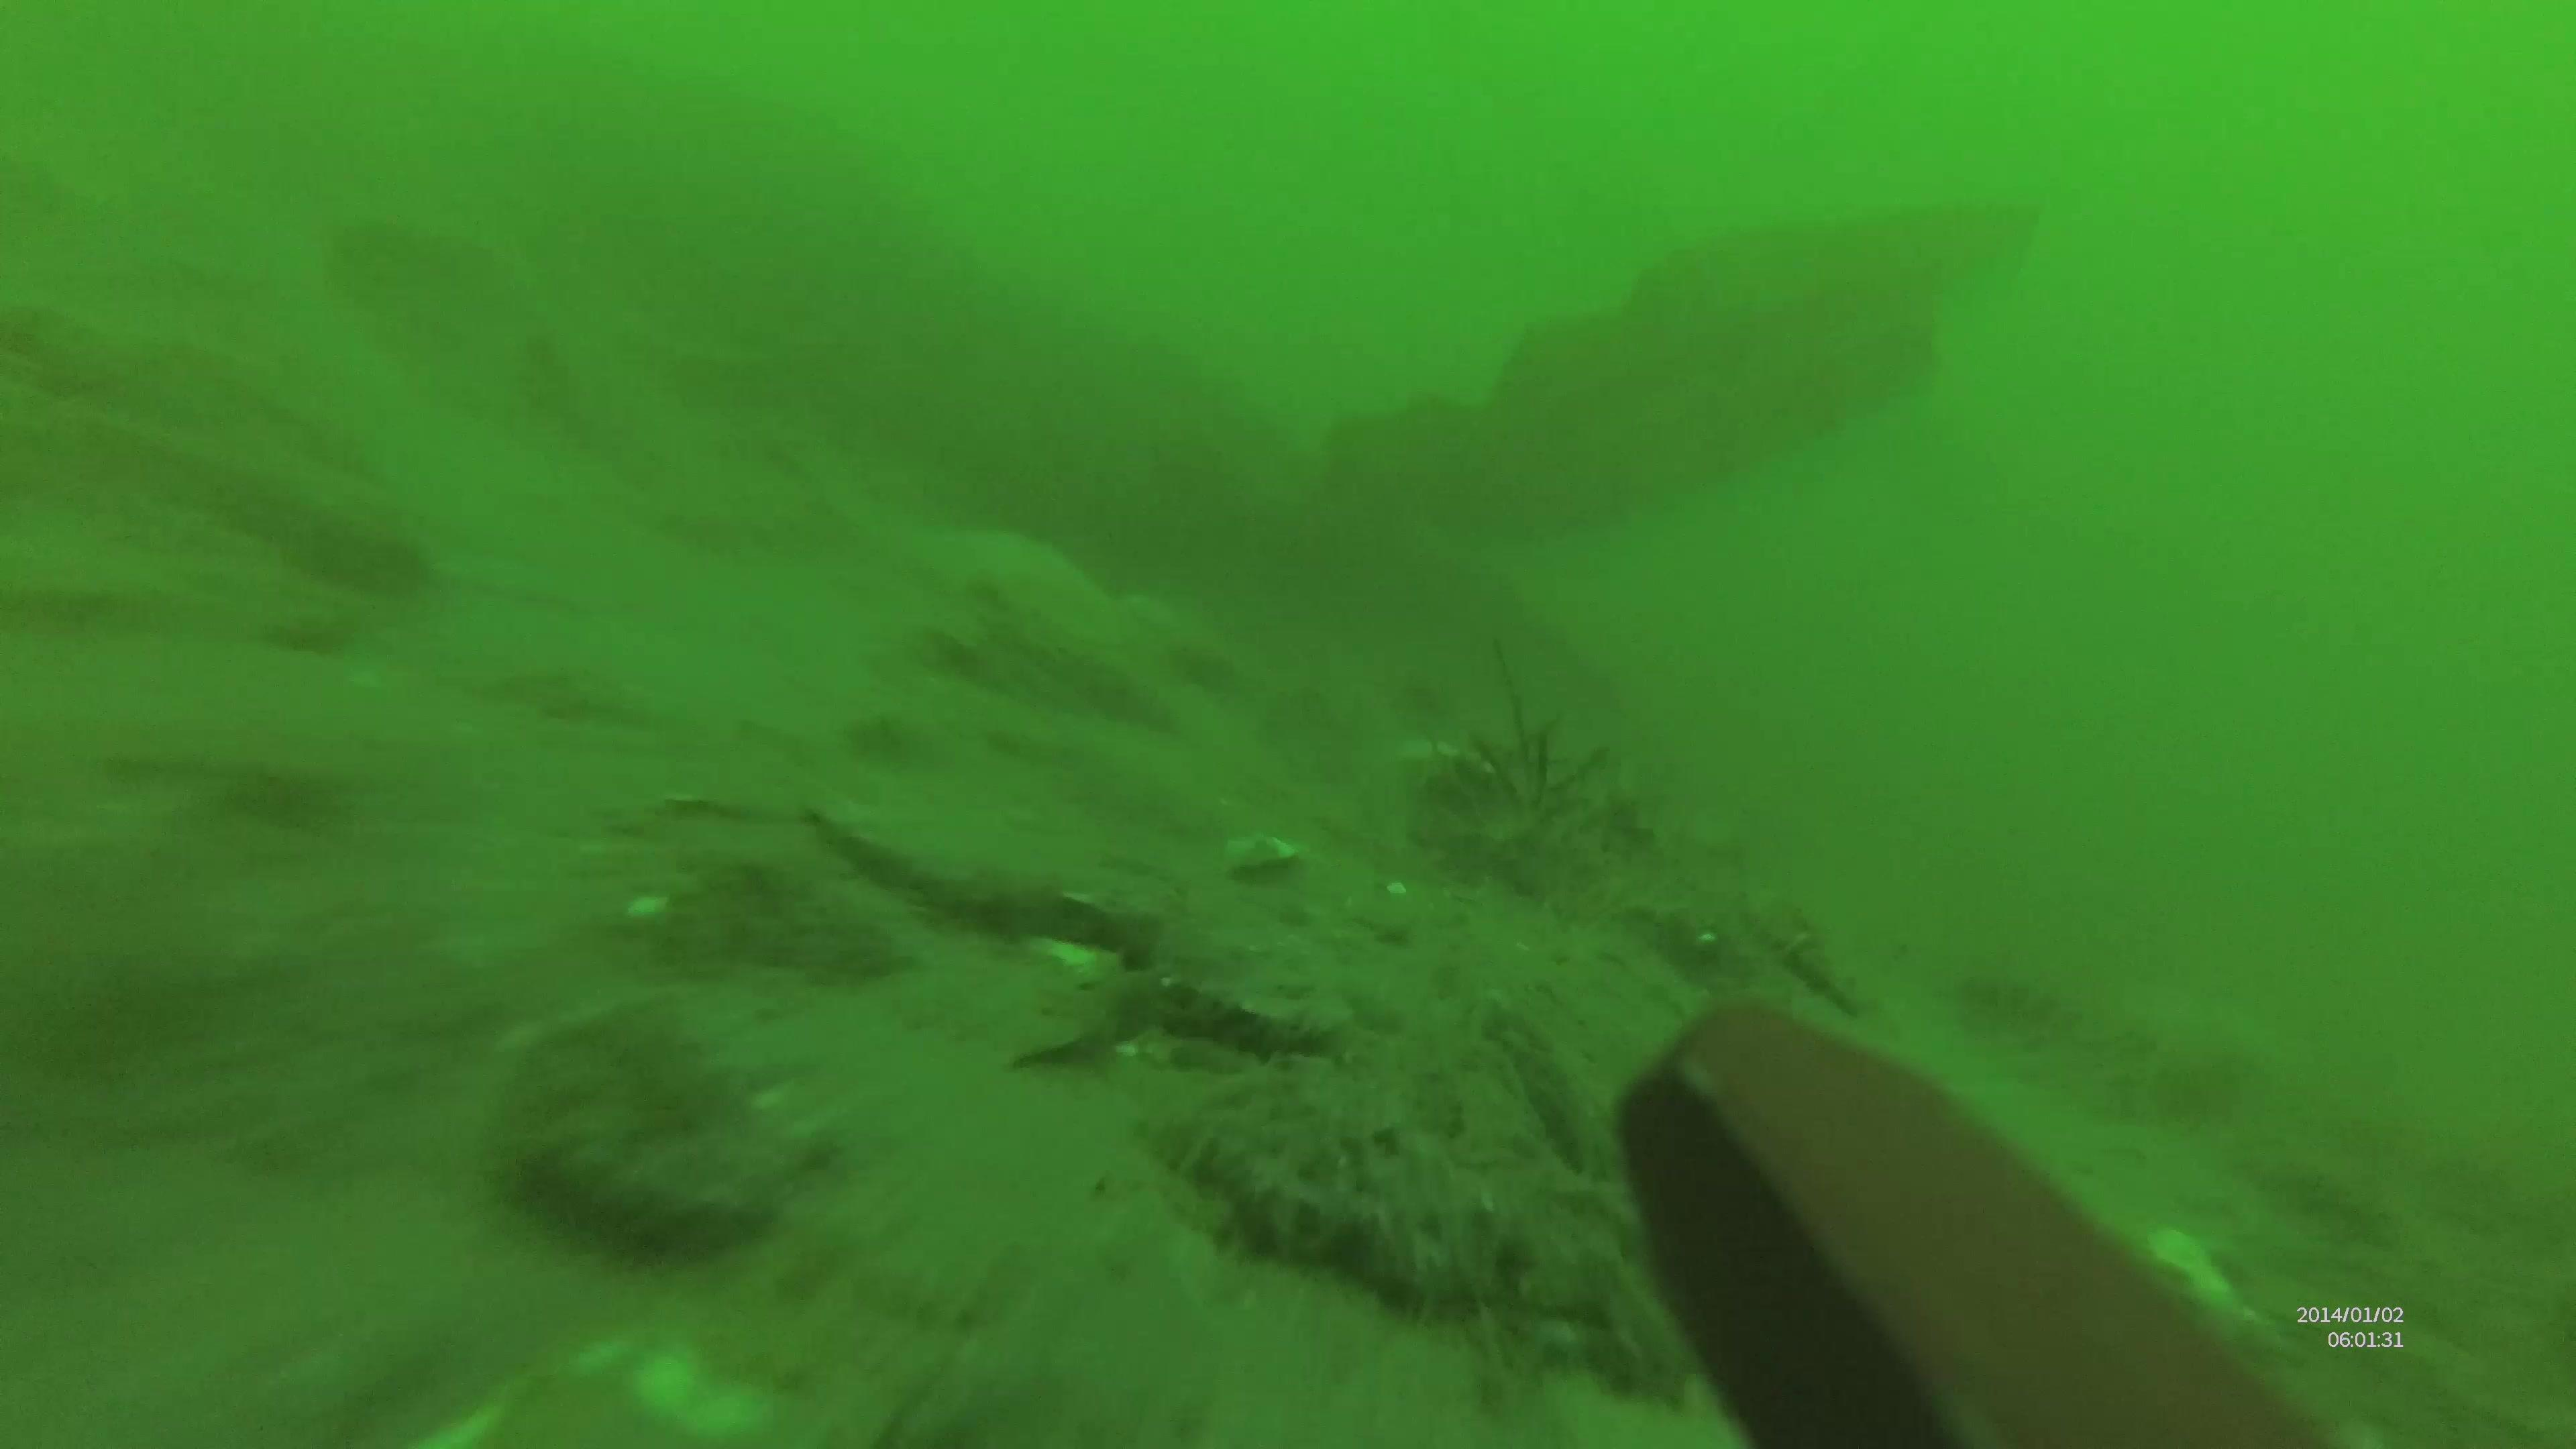holothurian: (823, 810, 1175, 964), (1162, 982, 1327, 1065)
starfish: (911, 527, 1138, 660)
